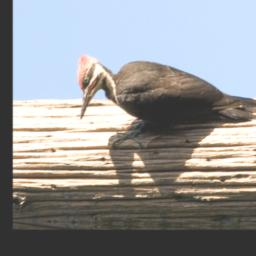Woodpecker: (76, 53, 256, 153)
